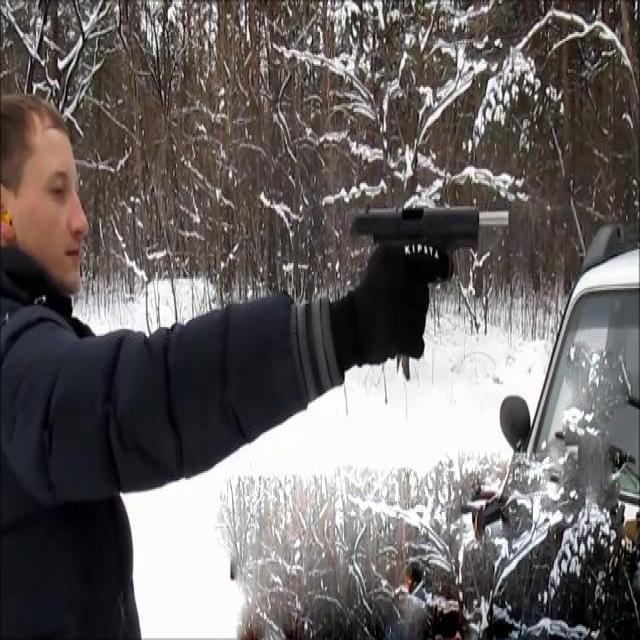pistol: (352, 204, 513, 288)
